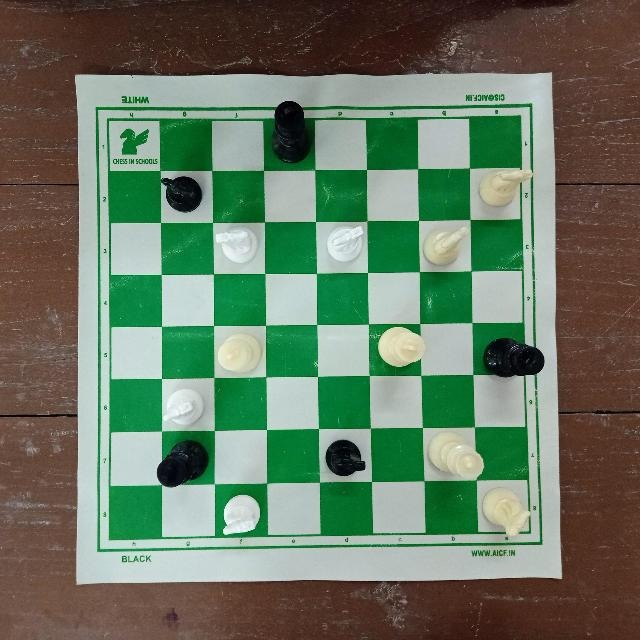black-king: (263, 100, 314, 168), (153, 436, 213, 491), (480, 337, 544, 383)
black-knight: (157, 169, 204, 217), (323, 436, 371, 479)
white-king: (376, 325, 426, 374), (214, 332, 263, 375)
white-knight: (480, 482, 532, 537), (477, 163, 531, 211), (418, 223, 470, 270), (216, 491, 268, 538), (159, 386, 209, 430), (214, 223, 260, 270), (325, 220, 367, 269)
white-queen: (426, 426, 484, 483)
